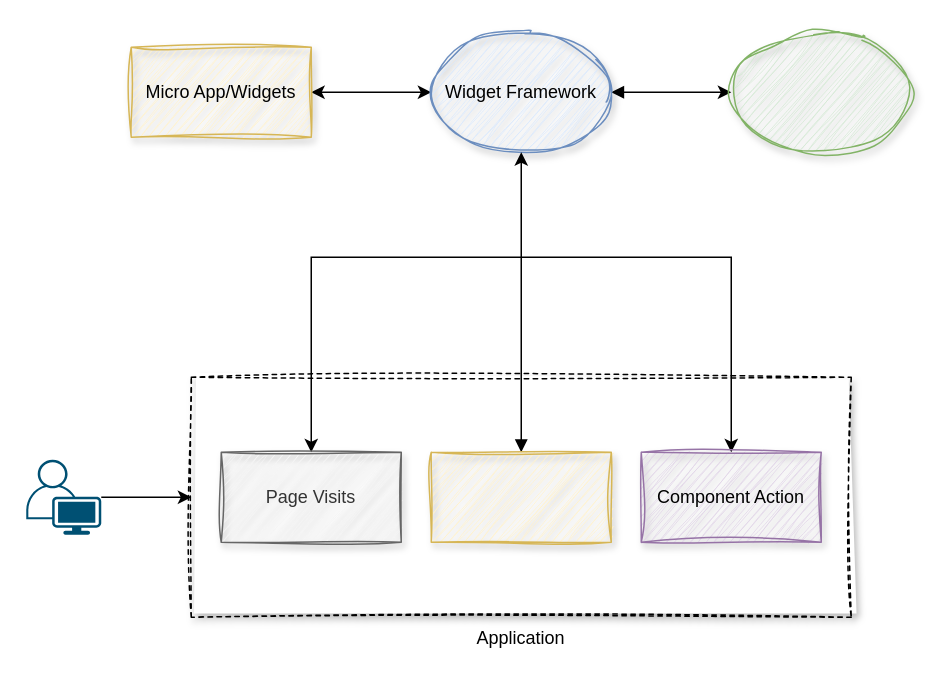
This 947x675 diagram has some shape labels left out. The shapes that lost their labels are listed below. From the top down, each one's centre as x and y in pixels, then its label:
(x=822, y=94): Smart Service
(x=522, y=499): Component Visits
